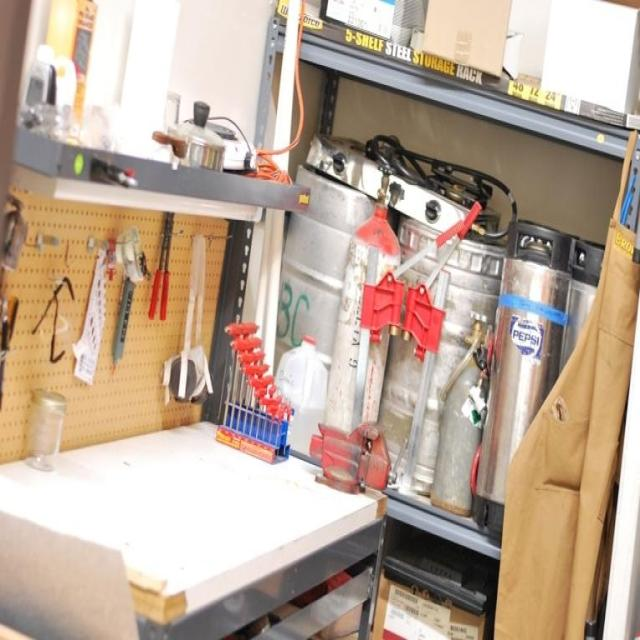Metal: (266, 57, 595, 457)
